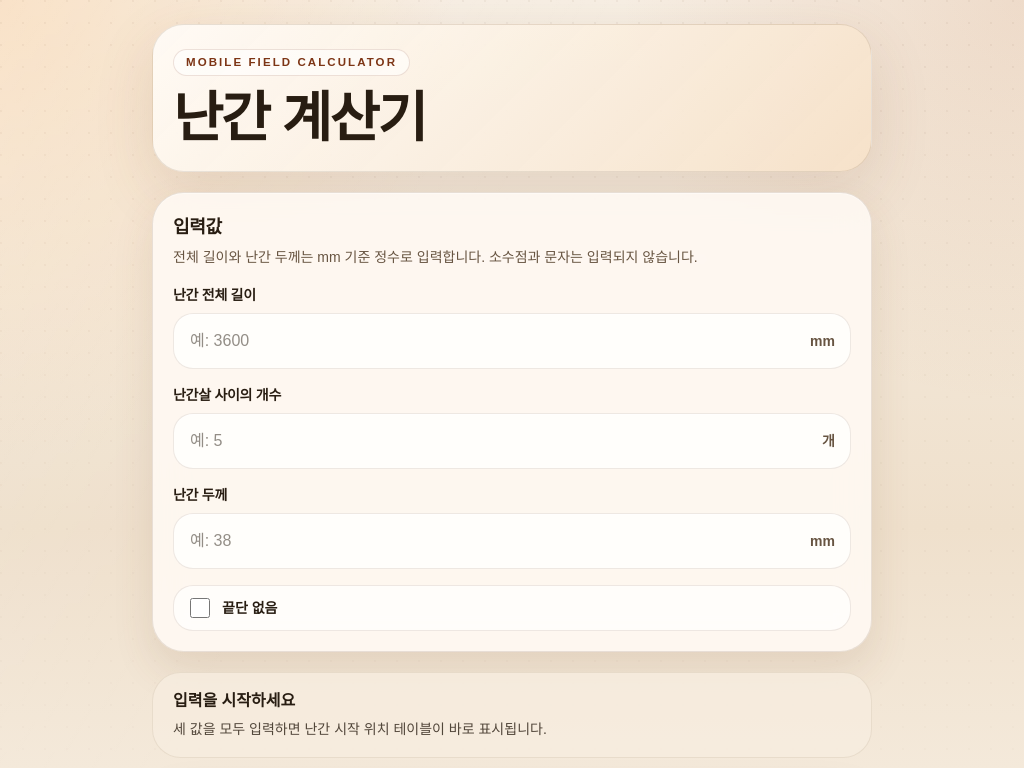
Test case: FrameCalcApp › rounds rail table positions to whole millimeters while keeping gap summary decimals
Type "3600" into the field labelled "난간 전체 길이" at (512, 341), box [173, 313, 851, 369]
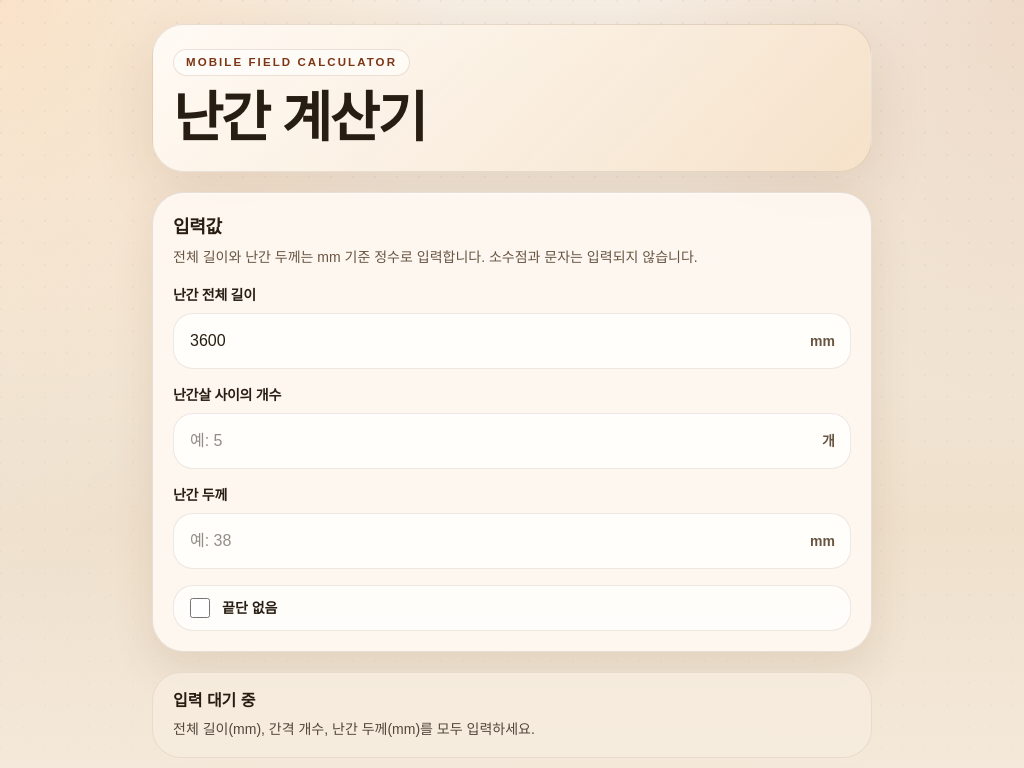
Type "5" into the field labelled "난간살 사이의 개수" at (512, 441), box [173, 413, 851, 469]
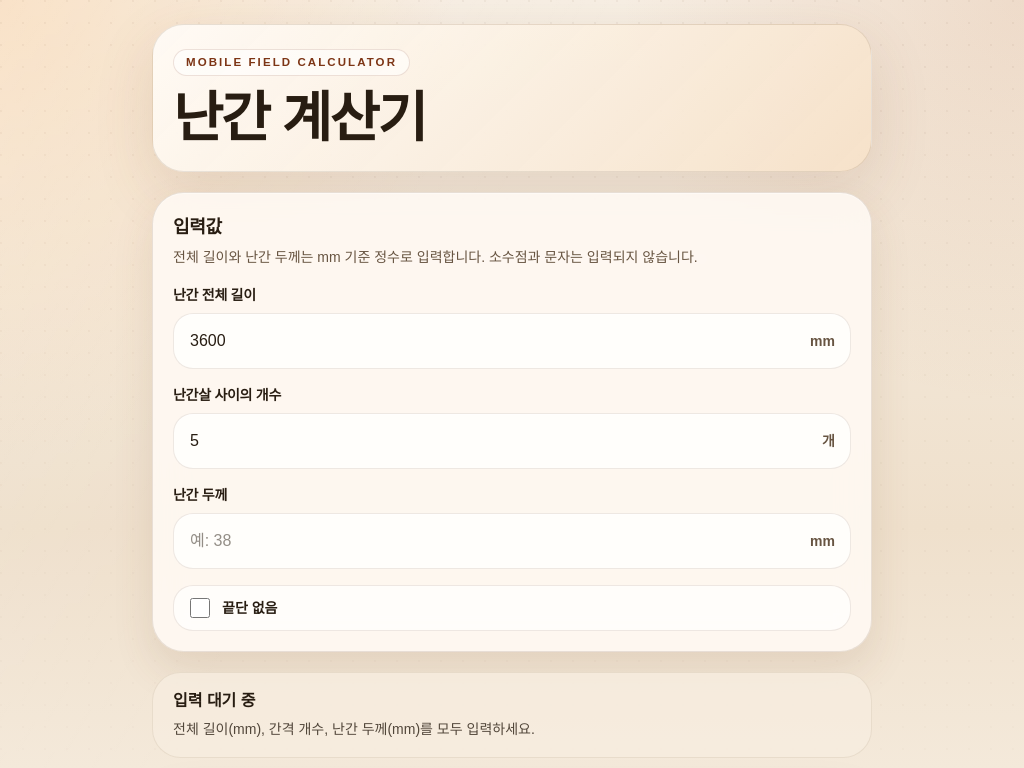
Type "38" into the field labelled "난간 두께" at (512, 541), box [173, 513, 851, 569]
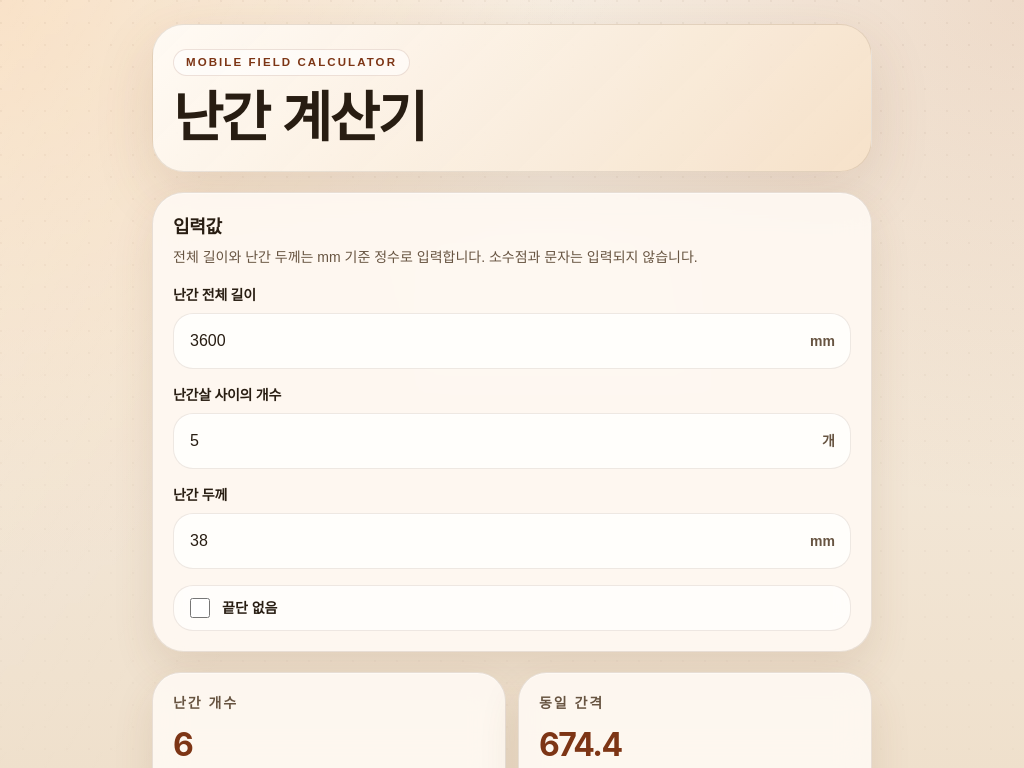
Expected: the text "674.4" is shown, [539, 725, 621, 764]
